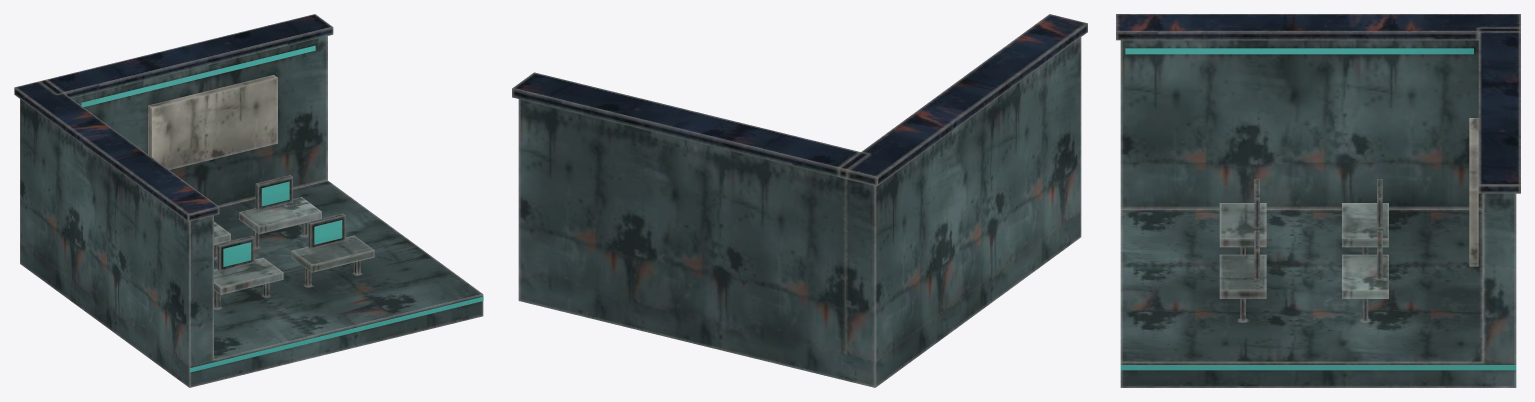
Rendered from interstellar_navigation.glb.
3 renders of one model, left to right at view 1: azimuth 30°, elevation 25°; view 2: azimuth 150°, elevation 25°; view 3: azimuth 270°, elevation 25°, orthographic. The views are drawn at different scales.
Visible parts, largest first — view 1: te_interstellar_navigation; view 2: te_interstellar_navigation; view 3: te_interstellar_navigation.
Boxes of the visible parts, bbox=[...] form: te_interstellar_navigation: bbox=[14, 14, 483, 387]; te_interstellar_navigation: bbox=[512, 14, 1087, 387]; te_interstellar_navigation: bbox=[1116, 14, 1520, 387].
Size of the model in its own units: 0.86 by 0.48 by 0.86.
Materials: 1 (1 with a texture image).
